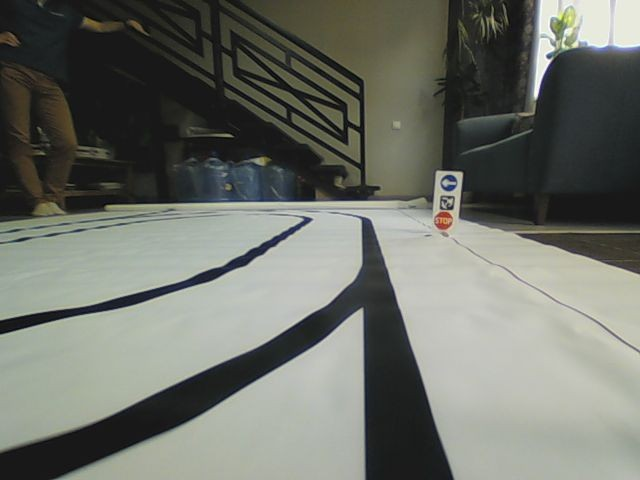Stop: (433, 211, 453, 230)
